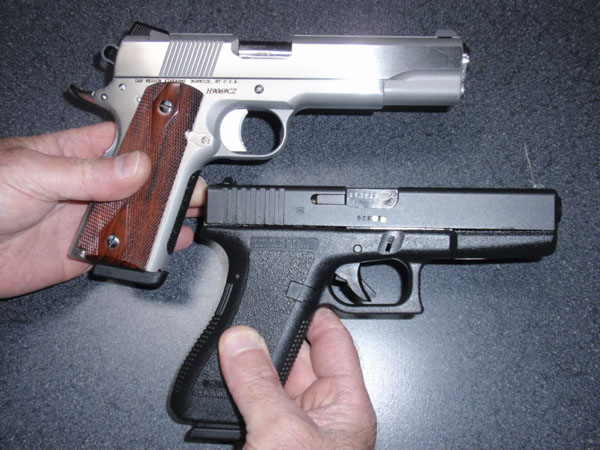gun: (86, 16, 471, 246), (192, 195, 546, 413)
